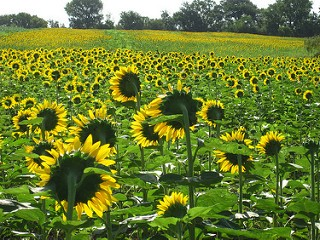flower: (28, 132, 120, 223), (148, 85, 205, 141), (125, 102, 169, 148), (212, 126, 253, 175), (31, 96, 73, 140), (101, 62, 141, 105), (254, 130, 286, 155), (197, 98, 225, 126), (221, 0, 282, 12)
